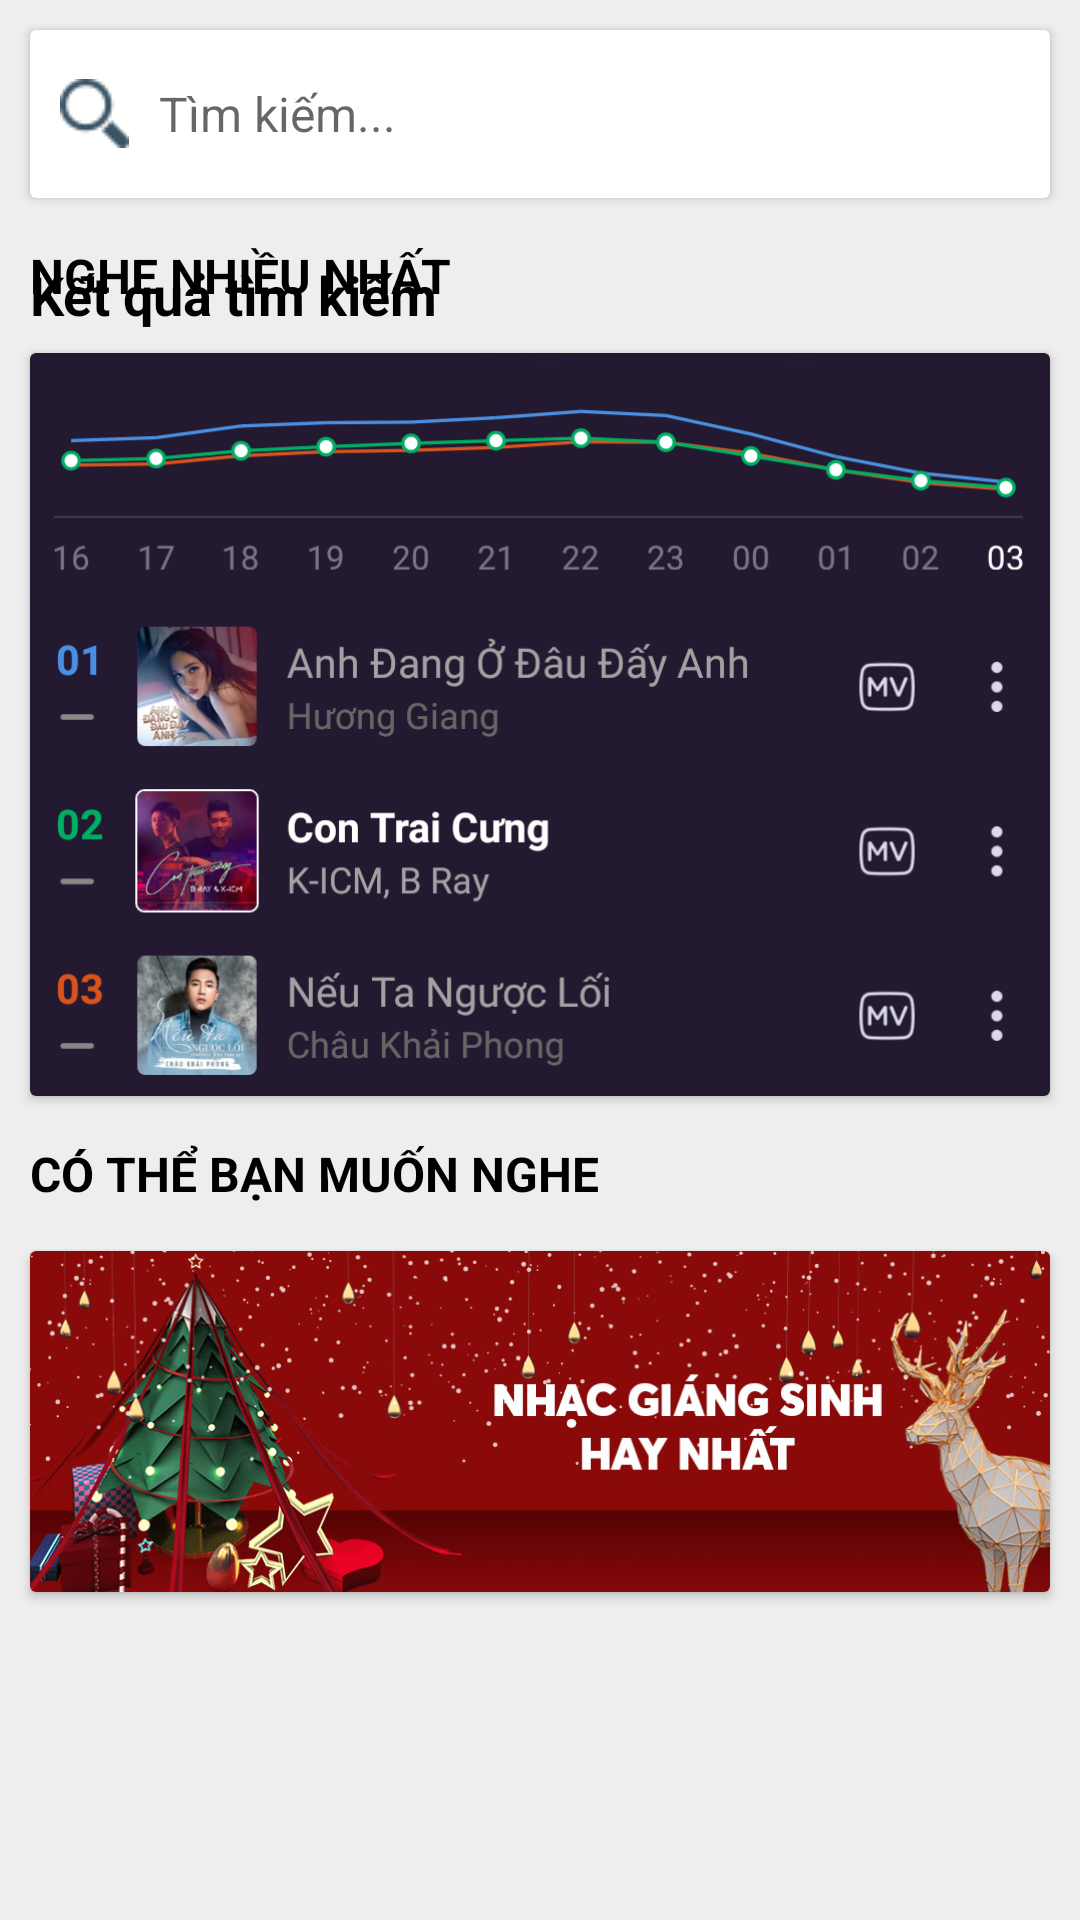

Screen size 1080px×1920px. Icon name, then its box in pixels as rect(x1, y1, x2, y2):
magnifier tool: rect(60, 79, 129, 148)
